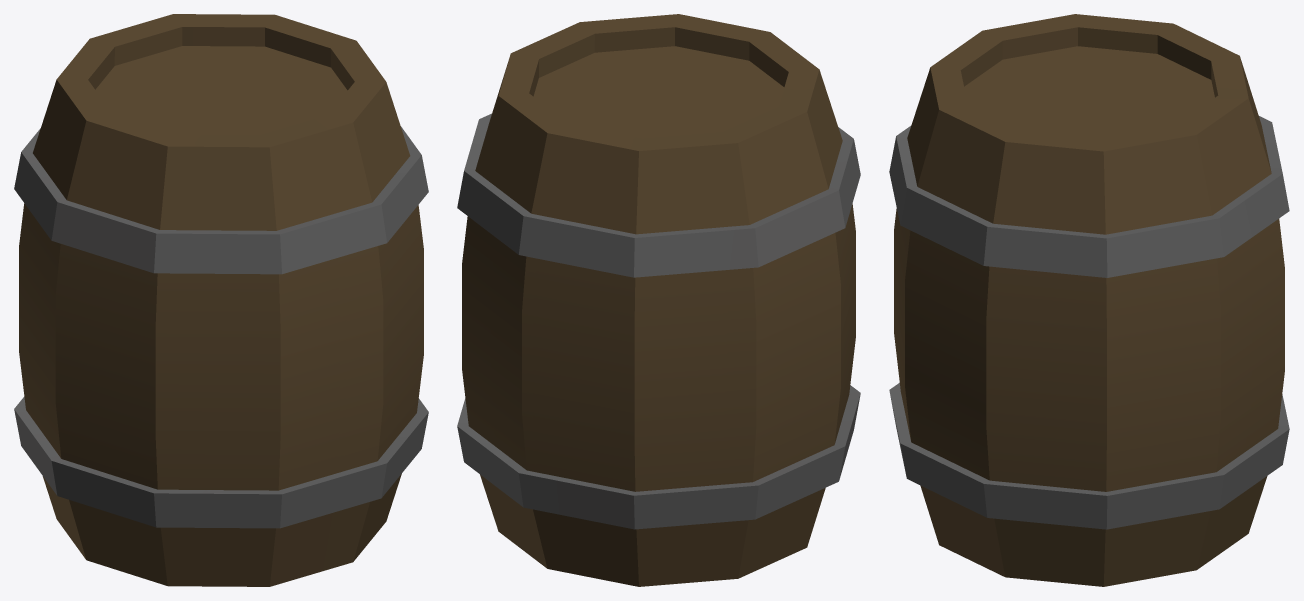
Rendered from Dock_Big_Nails_CylinderFBXASC046264.fbx.
The picture shows the model from 3 angles, left to right: view 1: azimuth 30°, elevation 25°; view 2: azimuth 150°, elevation 25°; view 3: azimuth 270°, elevation 25°; orthographic projection.
Parts seen in each view (by area): view 1: Dock_Big_Nails_Cylinder.264; view 2: Dock_Big_Nails_Cylinder.264; view 3: Dock_Big_Nails_Cylinder.264.
Boxes of the visible parts, left/top/right/bottom form: Dock_Big_Nails_Cylinder.264: left=14, top=14, right=428, bottom=586; Dock_Big_Nails_Cylinder.264: left=457, top=14, right=860, bottom=586; Dock_Big_Nails_Cylinder.264: left=889, top=14, right=1289, bottom=586.
Size of the model in its own units: 16.17 by 18.98 by 15.82.
